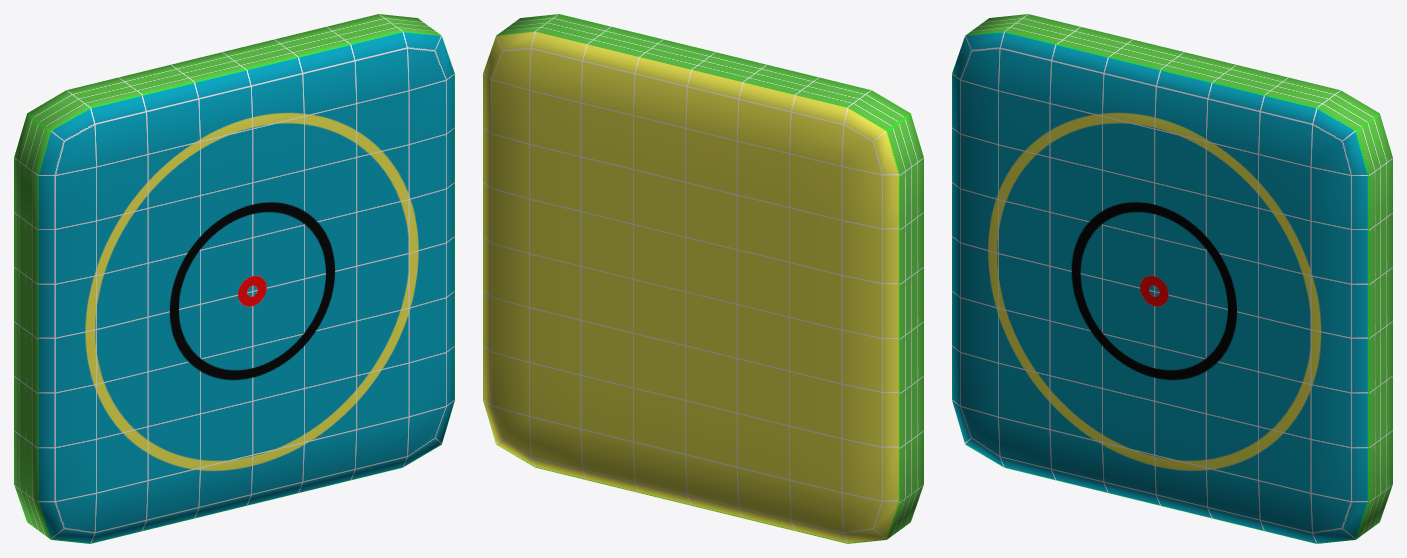
Rendered from Target.FBX.
3 views of the same model, side by side, from view 1: azimuth 30°, elevation 25°; view 2: azimuth 150°, elevation 25°; view 3: azimuth 330°, elevation 25° (orthographic).
Visible parts, largest first — view 1: Box001; view 2: Box001; view 3: Box001.
Part boxes in pixels (left/top/right/bottom): Box001: left=14, top=14, right=454, bottom=543; Box001: left=483, top=14, right=923, bottom=543; Box001: left=952, top=14, right=1392, bottom=543.
Bounding box in the file's own units: 10 × 10 × 1.5.
1 material, 1 textured.
